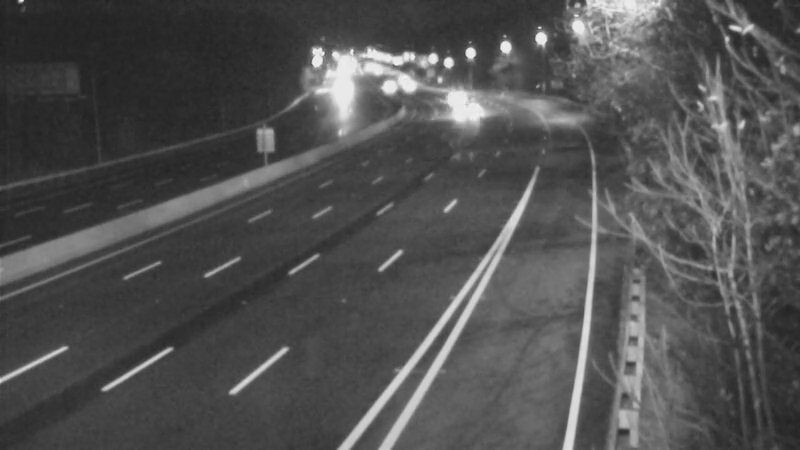vehicle: (381, 61, 431, 111), (359, 61, 409, 111), (419, 70, 469, 120), (447, 90, 497, 140), (314, 70, 364, 120)
